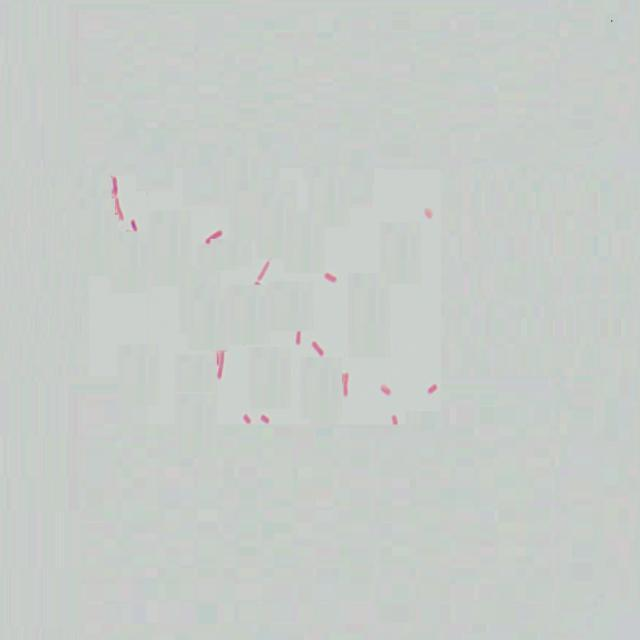E-coli: (200, 222, 227, 250), (255, 252, 273, 286), (338, 368, 356, 400), (308, 337, 328, 361), (425, 378, 444, 401), (215, 349, 228, 377), (241, 405, 256, 429), (112, 197, 125, 223), (110, 172, 123, 196), (323, 269, 339, 287), (129, 215, 142, 237), (378, 380, 393, 398), (421, 204, 437, 220), (293, 326, 304, 346), (390, 410, 400, 430), (261, 409, 271, 427)
